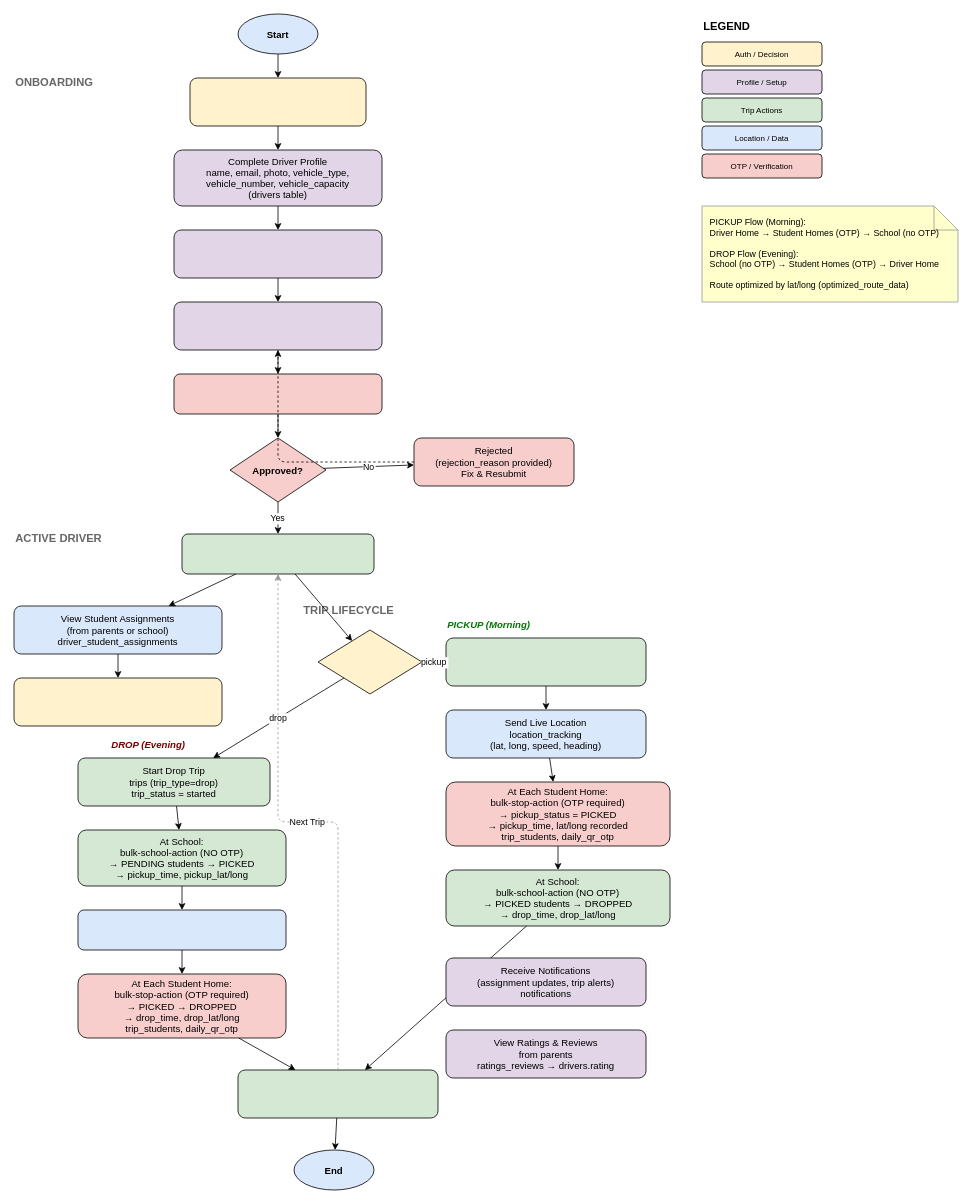
Image size: 972x1204. Some labels were removed from this diagram. The centre of each missing label's shape, as x and y in pixels:
Accept / Reject Assignment assignment_status → active or inactive: (x=117, y=701)
Add Address address, city, state, lat/long (driver_addresses): (x=277, y=253)
Complete Trip trip_status = completed total_trips incremented: (x=337, y=1093)
Driver Dashboard (driver_unique_id shared with parents): (x=277, y=553)
Login via Phone + OTP (users table — user_type=driver): (x=277, y=101)
Send Live Location location_tracking: (x=181, y=929)
Start Pickup Trip trips (trip_type=pickup) trip_status = started: (x=545, y=661)
Trip Type?: (x=369, y=661)
Upload Documents driving_license, vehicle_license, insurance (driver_documents): (x=277, y=325)
Wait for Admin Approval approval_status = pending: (x=277, y=393)
